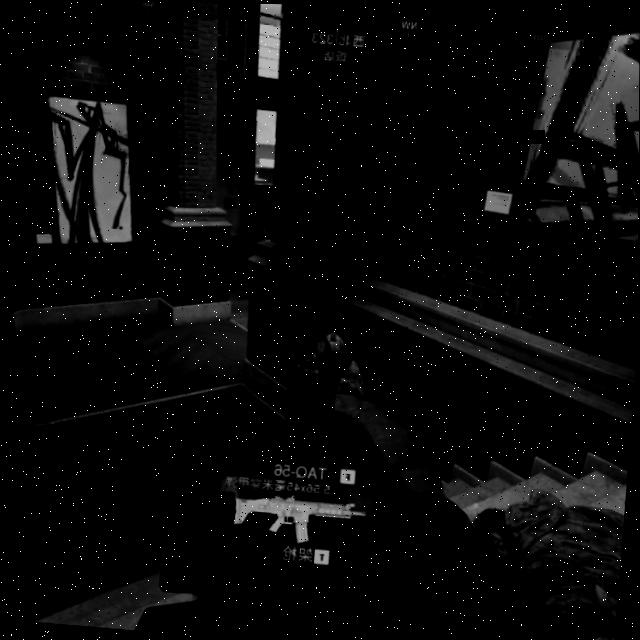MW2_body: (312, 314, 370, 393)
